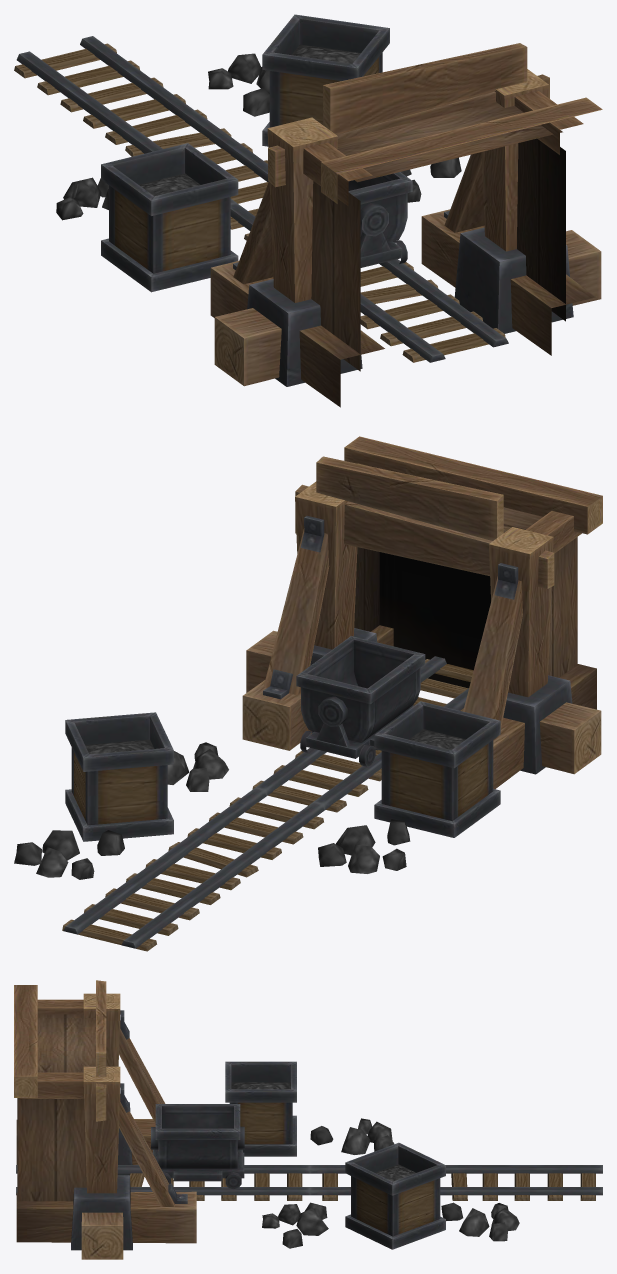
File: mina.glb
3 views of the same model, one above another, from view 1: azimuth 30°, elevation 25°; view 2: azimuth 150°, elevation 25°; view 3: azimuth 270°, elevation 25° (orthographic). The views are drawn at different scales.
Parts seen in each view (by area): view 1: Mine_Enter, Mine_Box (1), Mine_tracks1 (1), Mine_Box, Mine_tracks1, Mine_Cart, Mine_Ore (2), Mine_Ore (1), Mine_Ore; view 2: Mine_Enter, Mine_tracks1 (1), Mine_Box (1), Mine_Box, Mine_Cart, Mine_tracks1, Mine_Ore (2), Mine_Ore (1), Mine_Ore; view 3: Mine_Enter, Mine_Box, Mine_Cart, Mine_Box (1), Mine_tracks1 (1), Mine_tracks1, Mine_Ore, Mine_Ore (2), Mine_Ore (1).
Boxes of the visible parts, box(x1,y1,x2,y2) form: Mine_Enter: box(210, 43, 602, 407); Mine_Box (1): box(101, 143, 238, 292); Mine_tracks1 (1): box(14, 36, 268, 203); Mine_Box: box(262, 14, 389, 146); Mine_tracks1: box(230, 203, 508, 362); Mine_Cart: box(348, 172, 412, 267); Mine_Ore (2): box(208, 53, 269, 116); Mine_Ore (1): box(56, 177, 108, 220); Mine_Ore: box(401, 157, 461, 202); Mine_Enter: box(242, 436, 602, 789); Mine_tracks1 (1): box(62, 787, 325, 951); Mine_Box (1): box(374, 701, 500, 837); Mine_Box: box(65, 712, 173, 841); Mine_Cart: box(296, 636, 425, 766); Mine_tracks1: box(252, 656, 473, 812); Mine_Ore (2): box(14, 830, 124, 879); Mine_Ore (1): box(318, 819, 410, 873); Mine_Ore: box(167, 742, 228, 791); Mine_Enter: box(14, 980, 196, 1259); Mine_Box: box(345, 1142, 445, 1249); Mine_Cart: box(151, 1104, 244, 1189); Mine_Box (1): box(225, 1061, 296, 1156); Mine_tracks1 (1): box(309, 1165, 602, 1200); Mine_tracks1: box(16, 1165, 309, 1200); Mine_Ore: box(262, 1202, 328, 1248); Mine_Ore (2): box(441, 1202, 519, 1241); Mine_Ore (1): box(310, 1118, 394, 1154).
Size of the model in its own units: 2.04 by 1.48 by 4.01.
Materials: 2 (2 with a texture image).
